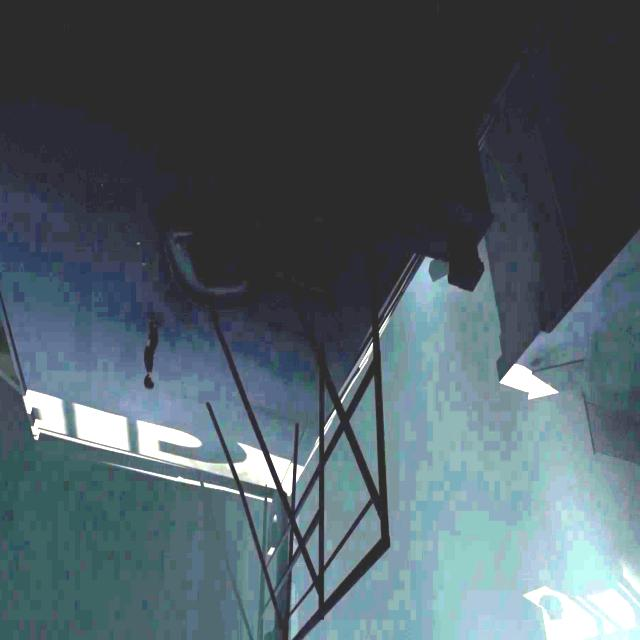boy: (136, 315, 166, 391)
